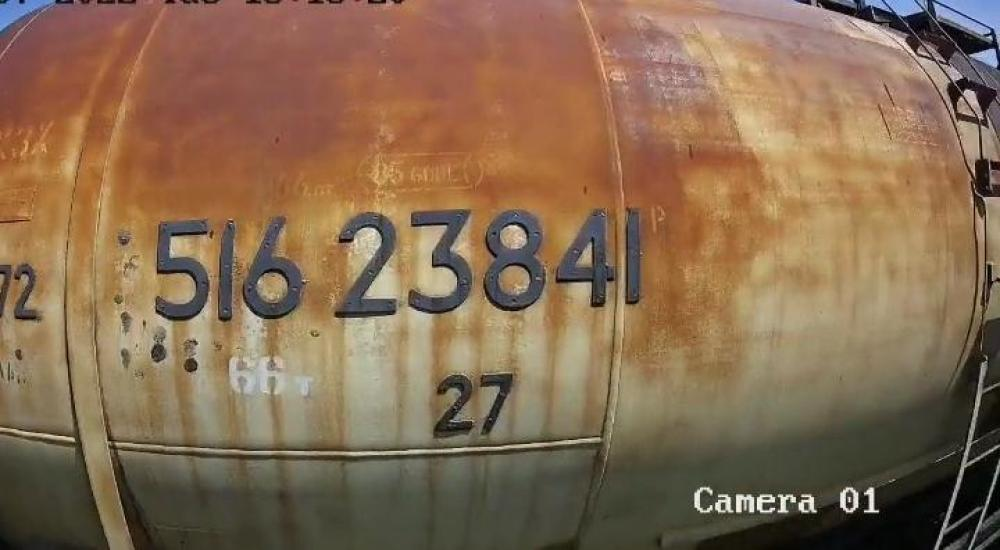Wagon-number: (147, 201, 650, 328)
